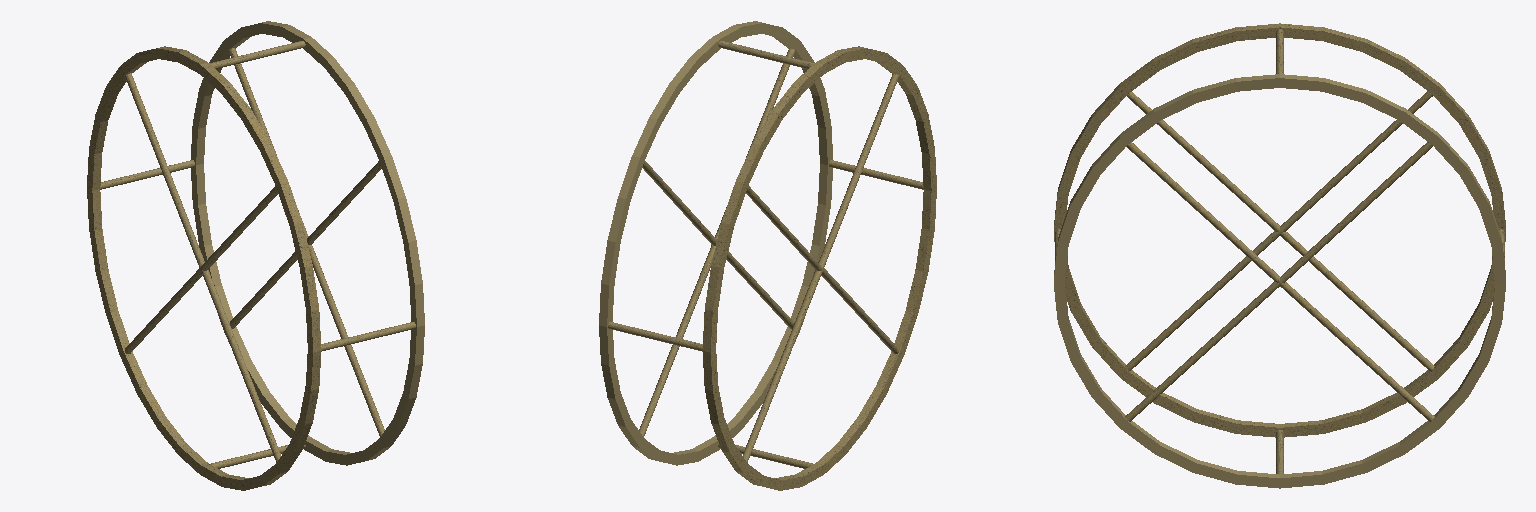
3 renders of one model, left to right at view 1: azimuth 30°, elevation 25°; view 2: azimuth 150°, elevation 25°; view 3: azimuth 270°, elevation 25°, orthographic.
Parts seen in each view (by area): view 1: Circle.001, Circle, Cylinder.015, Cylinder.014, Cylinder.009, Cylinder.018, Cylinder.017, Cylinder.012, Cylinder.006, Cylinder.013, Cylinder.008, Cylinder.007 (+1 smaller); view 2: Circle.001, Circle, Cylinder.017, Cylinder.018, Cylinder.013, Cylinder.014, Cylinder.015, Cylinder.010, Cylinder.007, Cylinder.009, Cylinder.008, Cylinder.006 (+1 smaller); view 3: Circle, Circle.001, Cylinder.009, Cylinder.012, Cylinder.013, Cylinder.010, Cylinder.014, Cylinder.018, Cylinder.015, Cylinder.017.
Part boxes in pixels (bbox=[...]): Circle.001: bbox=[87, 46, 321, 490]; Circle: bbox=[191, 21, 424, 465]; Cylinder.015: bbox=[125, 73, 204, 269]; Cylinder.014: bbox=[201, 270, 280, 462]; Cylinder.009: bbox=[308, 245, 384, 436]; Cylinder.018: bbox=[125, 268, 202, 353]; Cylinder.017: bbox=[201, 186, 277, 270]; Cylinder.012: bbox=[307, 161, 381, 244]; Cylinder.006: bbox=[321, 322, 415, 351]; Cylinder.013: bbox=[230, 251, 297, 328]; Cylinder.008: bbox=[209, 41, 305, 68]; Cylinder.007: bbox=[100, 160, 194, 189]; Circle.001: bbox=[702, 46, 936, 490]; Circle: bbox=[599, 21, 832, 465]; Cylinder.017: bbox=[818, 74, 898, 268]; Cylinder.018: bbox=[743, 270, 822, 462]; Cylinder.013: bbox=[639, 245, 715, 436]; Cylinder.014: bbox=[821, 268, 898, 353]; Cylinder.015: bbox=[746, 186, 822, 270]; Cylinder.010: bbox=[642, 161, 716, 245]; Cylinder.007: bbox=[608, 322, 702, 351]; Cylinder.009: bbox=[726, 251, 794, 328]; Cylinder.008: bbox=[718, 41, 814, 68]; Cylinder.006: bbox=[829, 160, 923, 189]; Circle: bbox=[1054, 74, 1505, 488]; Circle.001: bbox=[1054, 23, 1505, 437]; Cylinder.009: bbox=[1125, 281, 1279, 421]; Cylinder.012: bbox=[1126, 142, 1279, 282]; Cylinder.013: bbox=[1280, 282, 1434, 421]; Cylinder.010: bbox=[1280, 142, 1432, 282]; Cylinder.014: bbox=[1125, 231, 1279, 370]; Cylinder.018: bbox=[1280, 232, 1434, 370]; Cylinder.015: bbox=[1280, 91, 1432, 232]; Cylinder.017: bbox=[1127, 92, 1279, 231].
Bounding box in the file's own units: 7.01 × 24.6 × 24.6.
Materials: 2 (1 with a texture image).